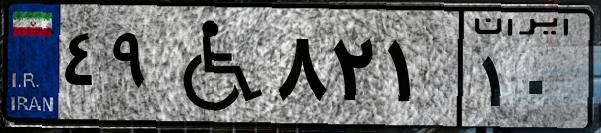0: (525, 38, 570, 115)
1: (385, 28, 445, 110), (475, 38, 525, 113)
2: (330, 28, 385, 110)
4: (57, 26, 110, 100)
8: (270, 28, 330, 110)
9: (110, 28, 158, 98)
ژ (معلولین و جانبازان): (158, 12, 270, 120)
